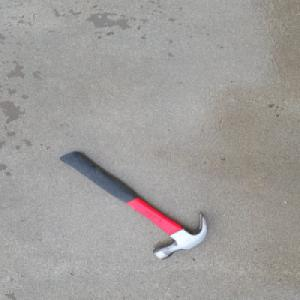Hammer: (60, 148, 215, 266)
